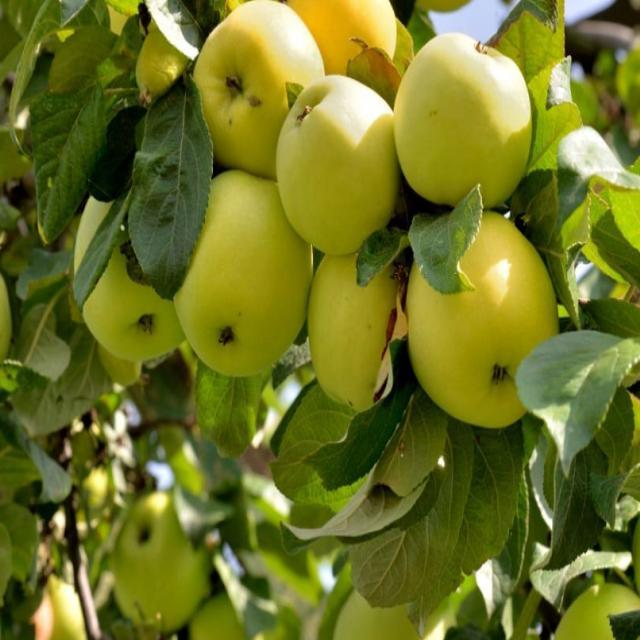Green Apple: (418, 212, 555, 418), (191, 163, 317, 367), (82, 174, 196, 370), (402, 40, 531, 205), (279, 66, 395, 245), (190, 1, 310, 158), (317, 240, 412, 400), (120, 487, 205, 614), (289, 1, 392, 70), (25, 560, 91, 640), (133, 17, 195, 99), (341, 591, 439, 640), (192, 597, 286, 640), (1, 256, 17, 364)
